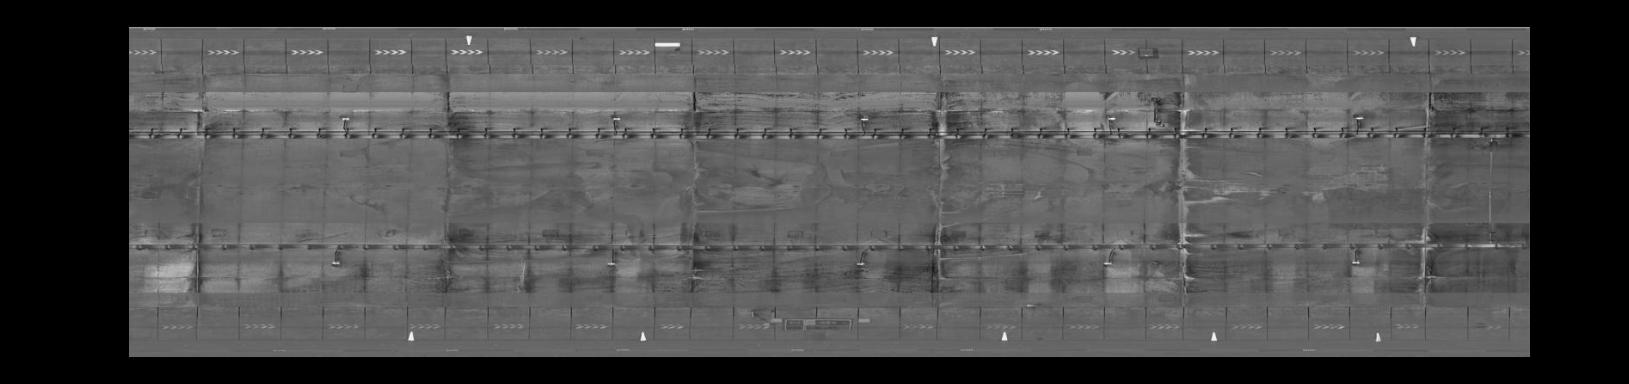light: (1342, 256, 1365, 271), (1100, 114, 1121, 124), (1350, 112, 1366, 124), (327, 257, 344, 269), (1098, 259, 1118, 269), (851, 259, 870, 269), (608, 114, 626, 124), (603, 259, 620, 269), (337, 115, 355, 124), (855, 114, 871, 124)
